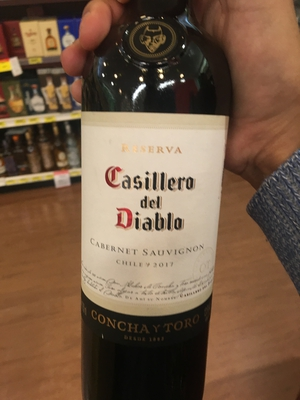casillero del diablo cabernet sauvignon: (63, 25, 233, 400)
